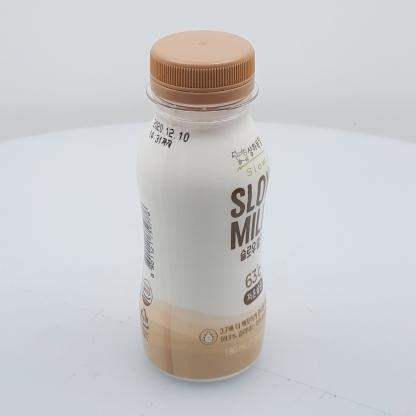----------180ML: (135, 30, 270, 383)
